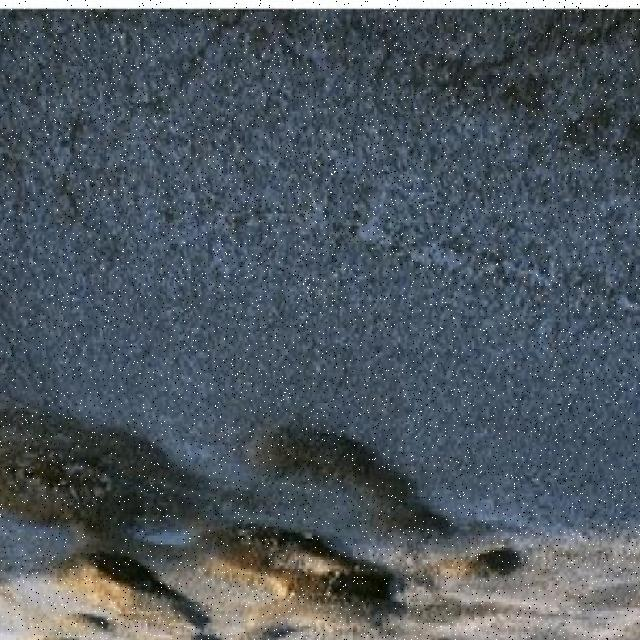pothole: (241, 425, 467, 553), (0, 413, 211, 541), (200, 527, 406, 640), (58, 554, 225, 640)
